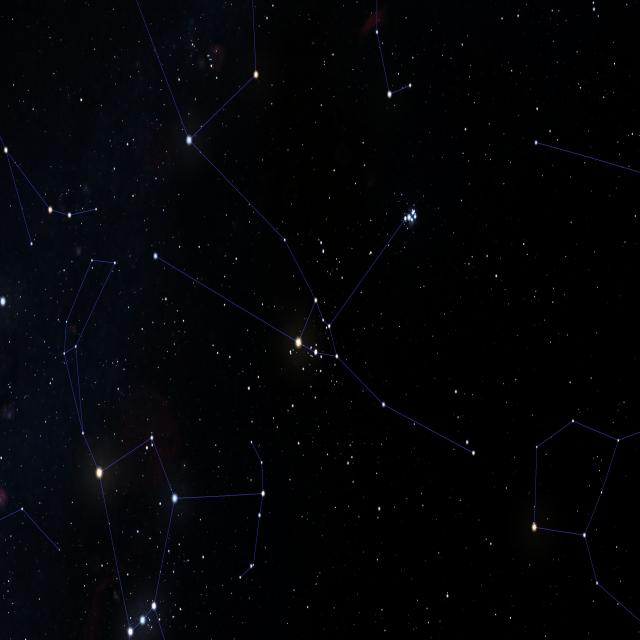Taurus: (149, 134, 481, 464)
